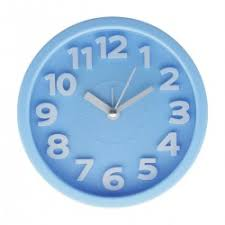alarm_clock: (15, 15, 208, 206), (29, 15, 208, 206)
